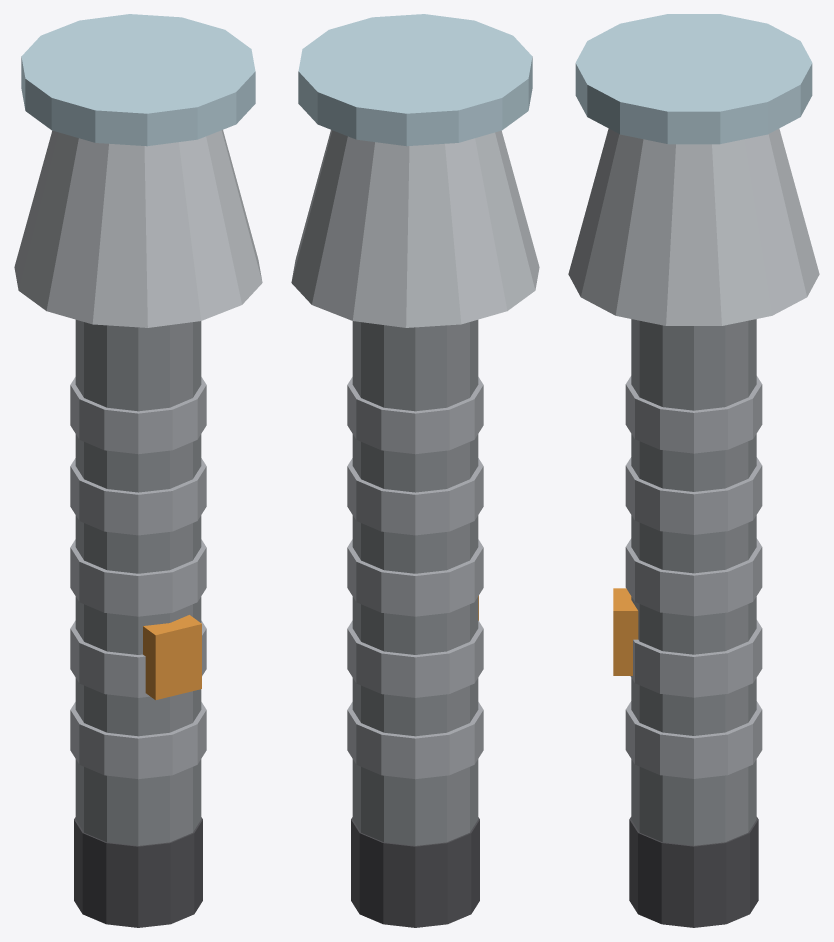
Rendered from flashlight.glb.
3 views of the same model, side by side, from view 1: azimuth 30°, elevation 25°; view 2: azimuth 150°, elevation 25°; view 3: azimuth 270°, elevation 25° (orthographic).
Visible parts, largest first — view 1: flashlight; view 2: flashlight; view 3: flashlight.
Boxes of the visible parts, box(x1,y1,x2,y2) form: flashlight: box(14, 14, 262, 927); flashlight: box(291, 14, 539, 927); flashlight: box(568, 14, 819, 927).
Bounding box in the file's own units: 0.1365 × 0.515 × 0.14.
